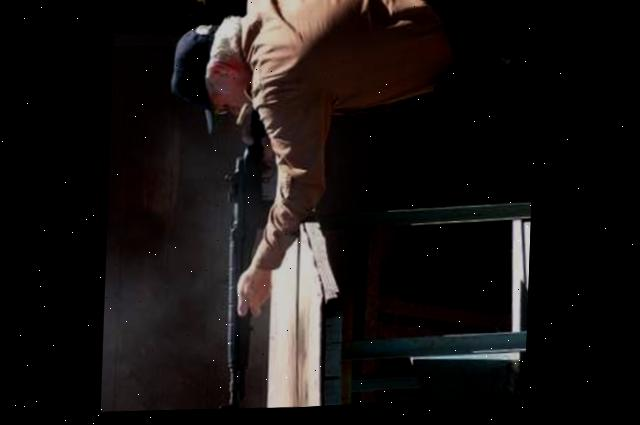rifle: (200, 101, 324, 416)
